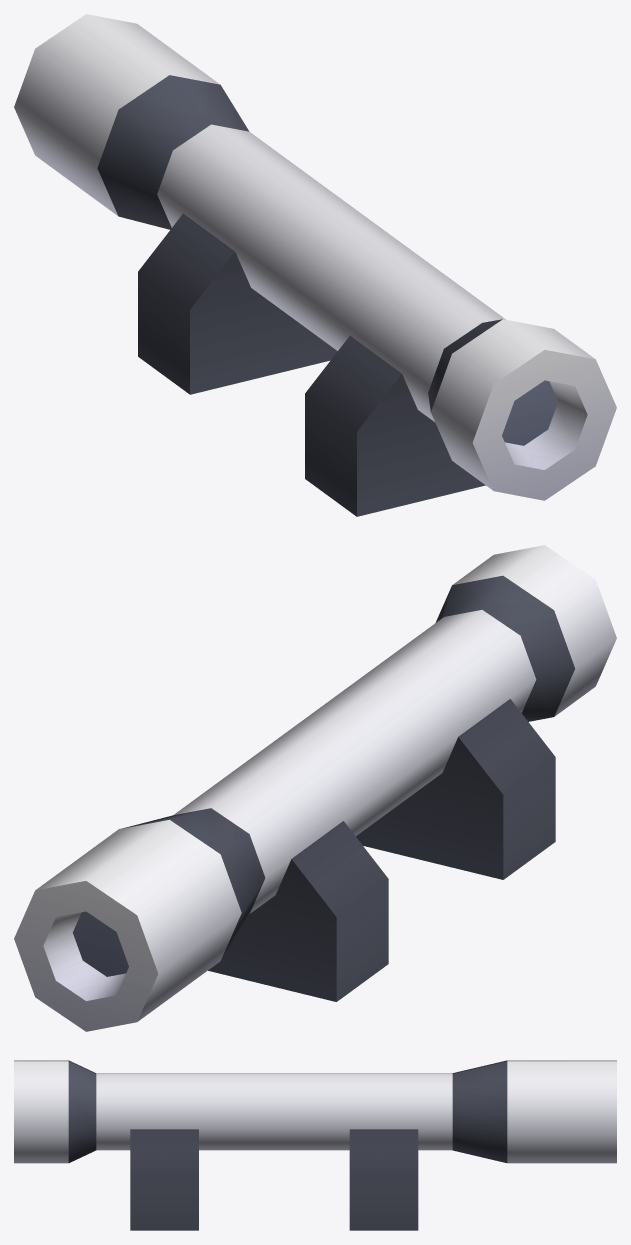
File: scope-large-a.glb
3 views of the same model, one above another, from view 1: azimuth 30°, elevation 25°; view 2: azimuth 150°, elevation 25°; view 3: azimuth 270°, elevation 25° (orthographic). The views are drawn at different scales.
Parts seen in each view (by area): view 1: scope-large-a; view 2: scope-large-a; view 3: scope-large-a.
Part boxes in pixels (left/top/right/bottom): scope-large-a: left=14, top=14, right=616, bottom=516; scope-large-a: left=14, top=545, right=616, bottom=1031; scope-large-a: left=14, top=1060, right=616, bottom=1230.
Bounding box in the file's own units: 0.11 × 0.11 × 0.44.
Materials: 1 (1 with a texture image).
